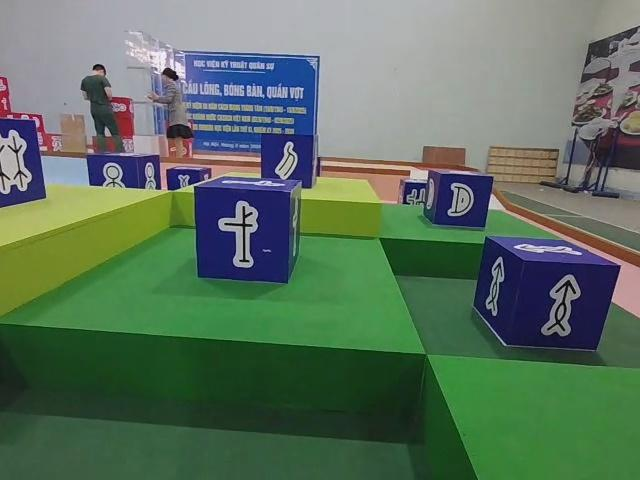R2 Real Blue: (475, 236, 620, 352), (195, 176, 304, 286), (0, 118, 45, 219), (423, 172, 493, 232), (260, 134, 320, 191), (89, 153, 163, 189), (168, 166, 214, 191), (398, 177, 429, 204)
